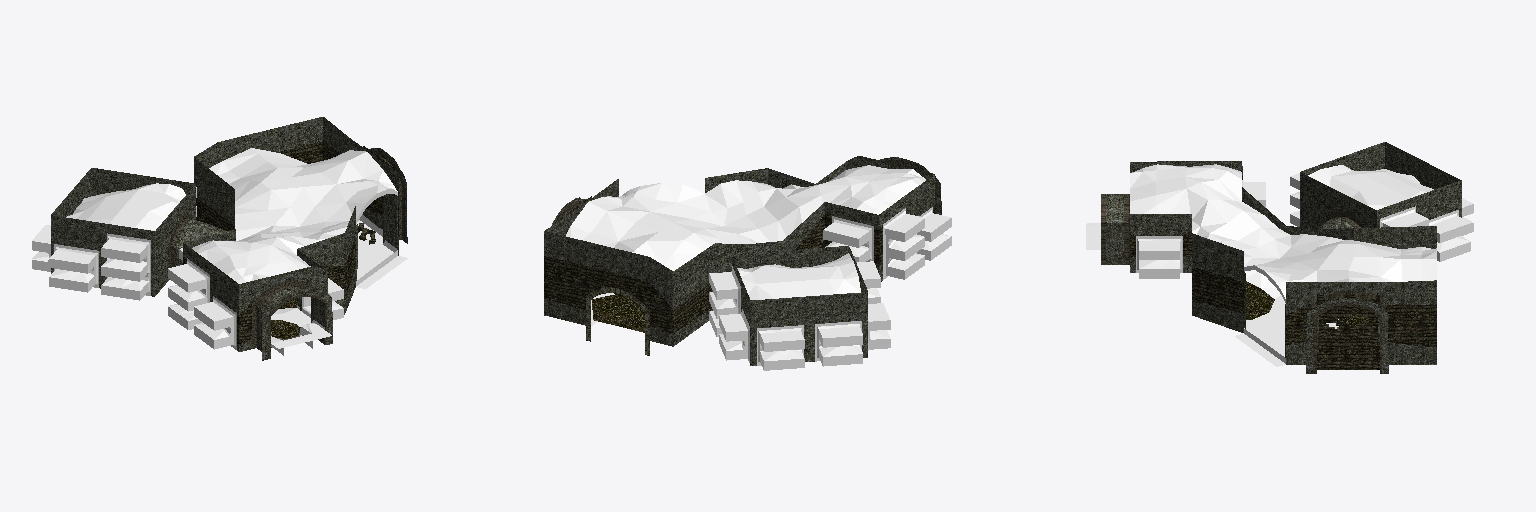
3 views of the same model, side by side, from view 1: azimuth 30°, elevation 25°; view 2: azimuth 150°, elevation 25°; view 3: azimuth 270°, elevation 25° (orthographic).
Parts seen in each view (by area): view 1: mesh5, mesh10, mesh2, mesh3, mesh4, mesh8, mesh12, mesh13; view 2: mesh5, mesh10, mesh2, mesh3, mesh13, mesh14; view 3: mesh5, mesh10, mesh3, mesh2, mesh4, mesh8, mesh13, mesh12.
Part boxes in pixels (left/top/right/bottom): mesh5: left=32, top=148, right=397, bottom=355; mesh10: left=183, top=117, right=398, bottom=351; mesh2: left=51, top=168, right=322, bottom=351; mesh3: left=183, top=141, right=398, bottom=344; mesh4: left=169, top=151, right=404, bottom=358; mesh8: left=93, top=148, right=407, bottom=360; mesh12: left=356, top=253, right=407, bottom=288; mesh13: left=271, top=298, right=300, bottom=347; mesh5: left=566, top=165, right=951, bottom=370; mesh10: left=544, top=156, right=934, bottom=346; mesh2: left=732, top=246, right=867, bottom=365; mesh3: left=544, top=196, right=934, bottom=333; mesh13: left=592, top=294, right=644, bottom=332; mesh14: left=586, top=287, right=649, bottom=355; mesh5: left=1086, top=164, right=1473, bottom=333; mesh10: left=1130, top=161, right=1436, bottom=364; mesh3: left=1130, top=176, right=1436, bottom=369; mesh2: left=1106, top=142, right=1461, bottom=264; mesh4: left=1101, top=194, right=1384, bottom=373; mesh8: left=1244, top=164, right=1388, bottom=373; mesh13: left=1246, top=281, right=1367, bottom=327; mesh12: left=1235, top=332, right=1285, bottom=366.
Bounding box in the file's own units: 18.42 × 5.62 × 18.79.
15 materials, 6 textured.